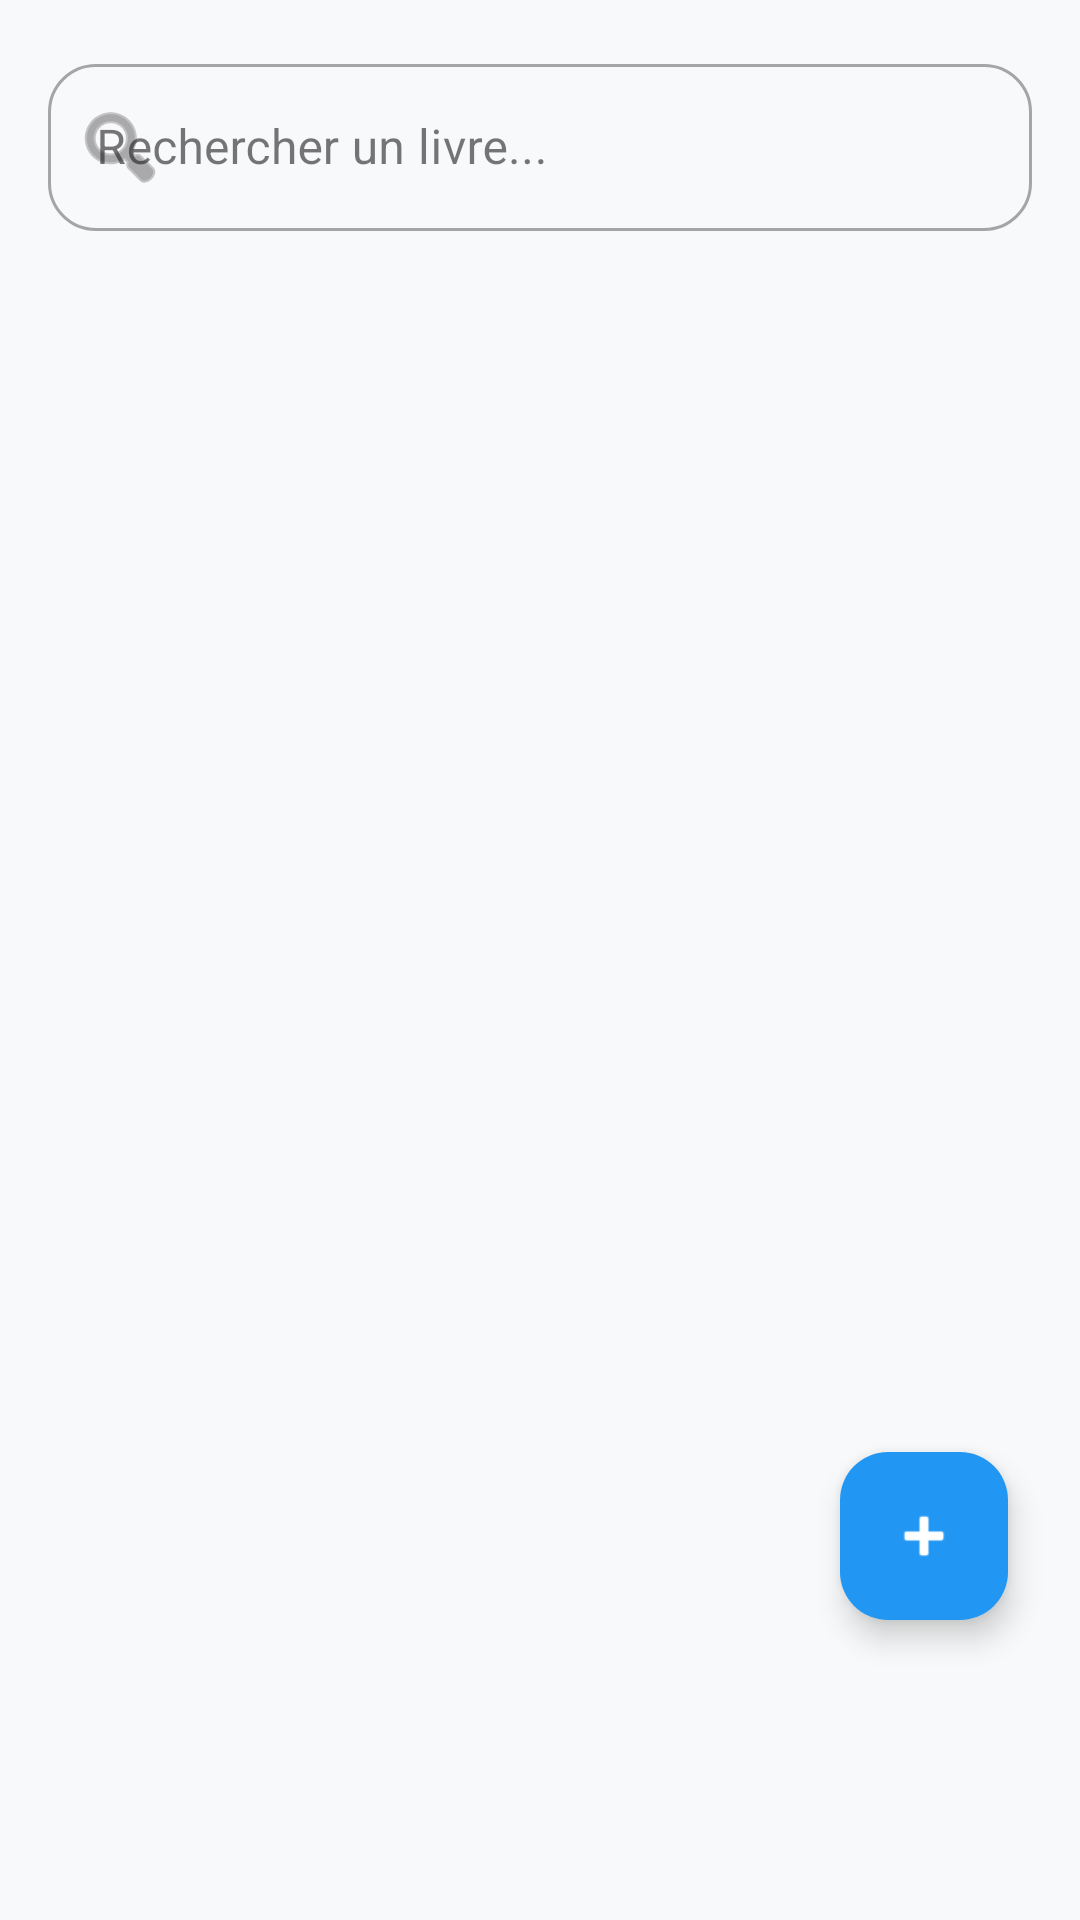

Icons on this 1080×1920 Android screen, each with its box as bbox=(x1, y1, x2, y2):
Ajouter un Livre: bbox=(840, 1452, 1008, 1620)
